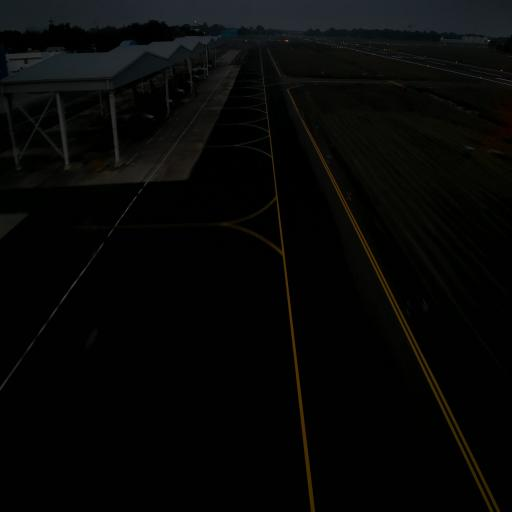on: (316, 124, 318, 130)
